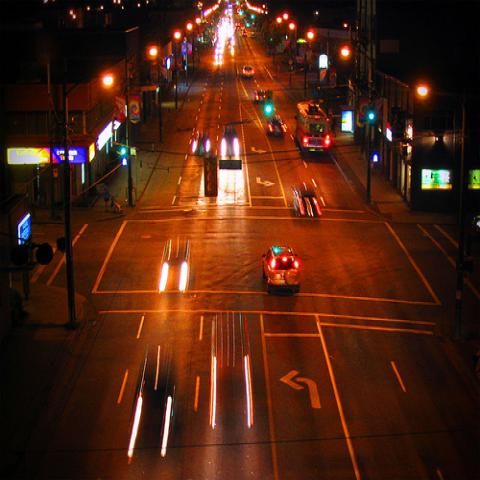car: (126, 349, 178, 451), (209, 308, 253, 426), (158, 232, 193, 294), (261, 246, 302, 295), (218, 123, 244, 171), (292, 183, 323, 217), (264, 112, 288, 140), (192, 130, 210, 160), (255, 89, 266, 105), (242, 65, 255, 78), (240, 28, 247, 35), (250, 31, 255, 38)
truck: (294, 100, 333, 156)
